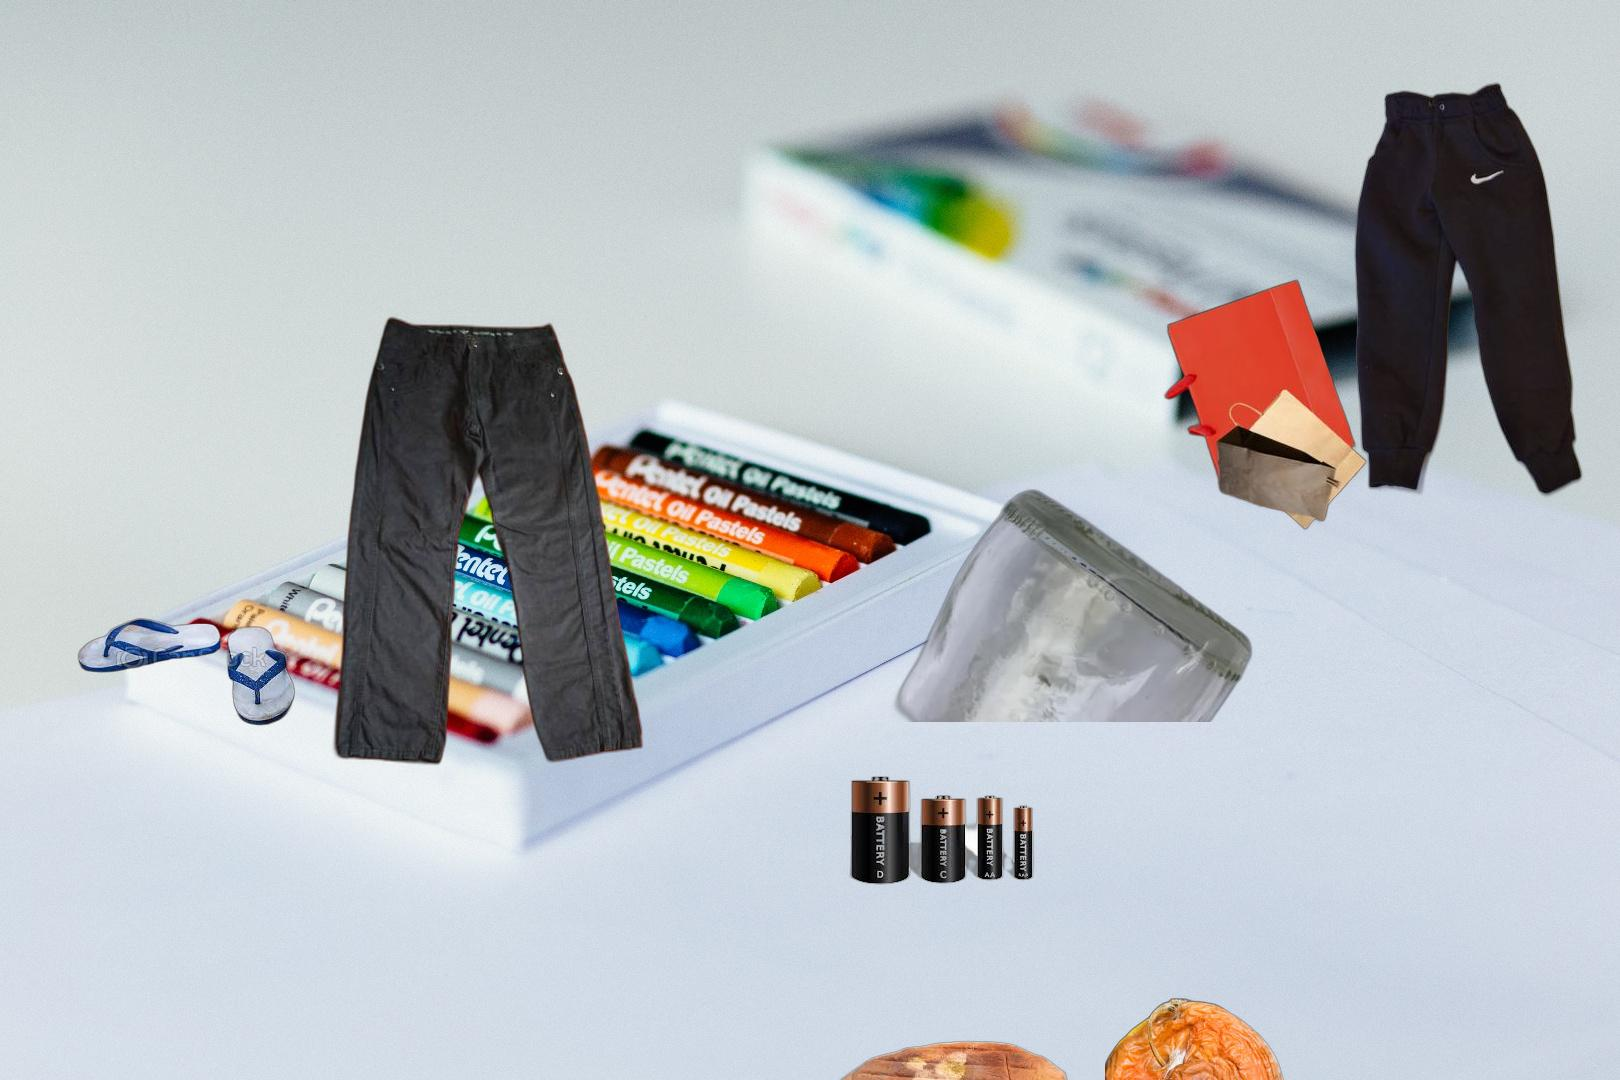battery: (847, 776, 1037, 886)
biological: (1105, 996, 1289, 1080), (833, 1038, 1072, 1080)
clothes: (329, 312, 679, 769), (1352, 80, 1585, 500)
glass: (890, 488, 1255, 722)
paper-bag: (1162, 277, 1369, 532)
shoes: (76, 616, 297, 728)
